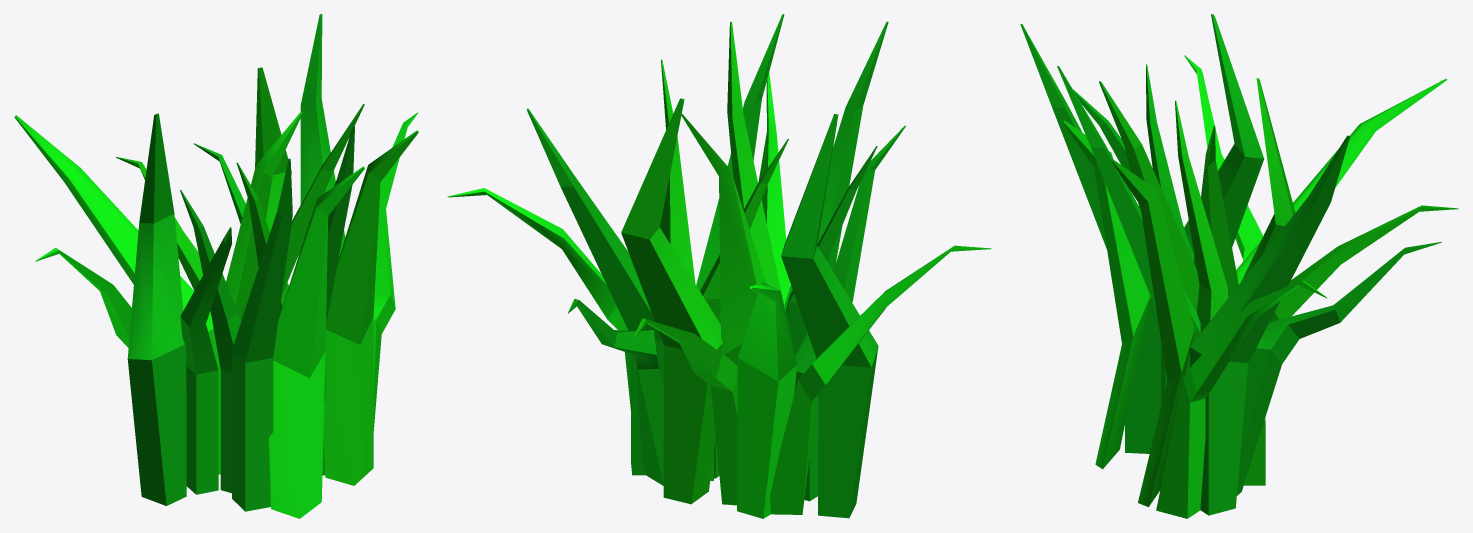
Rendered from grass3.fbx.
The picture shows the model from 3 angles, left to right: view 1: azimuth 30°, elevation 25°; view 2: azimuth 150°, elevation 25°; view 3: azimuth 270°, elevation 25°; orthographic projection. The views are drawn at different scales.
Visible parts, largest first — view 1: Cube.020, Cube.023, Cube.009, Cube.022, Cube.018, Cube.021, Cube.024, Cube.016, Cube.014, Cube.010, Cube.013, Cube.015 (+5 smaller); view 2: Cube.013, Cube.020, Cube.021, Cube.019, Cube.014, Cube.016, Cube.017, Cube.012, Cube.018, Cube.015, Cube.022, Cube.010 (+5 smaller); view 3: Cube.014, Cube.009, Cube.010, Cube.023, Cube.022, Cube.012, Cube.020, Cube.011, Cube.008, Cube.015, Cube.013, Cube.017 (+5 smaller).
Part boxes in pixels (x1,y1,x2,y2): Cube.020: (127, 113, 186, 505); Cube.023: (269, 166, 364, 518); Cube.009: (323, 130, 418, 485); Cube.022: (232, 158, 292, 511); Cube.018: (180, 227, 232, 494); Cube.021: (14, 115, 220, 474); Cube.024: (180, 190, 240, 493); Cube.016: (226, 112, 302, 316); Cube.014: (300, 14, 345, 257); Cube.010: (373, 112, 417, 430); Cube.013: (255, 67, 291, 282); Cube.015: (239, 104, 364, 321); Cube.013: (621, 98, 722, 504); Cube.020: (781, 114, 878, 518); Cube.021: (737, 282, 797, 518); Cube.019: (770, 245, 991, 514); Cube.014: (527, 108, 663, 475); Cube.016: (681, 114, 766, 365); Cube.017: (633, 318, 737, 505); Cube.012: (568, 299, 663, 485); Cube.018: (794, 125, 905, 501); Cube.015: (727, 21, 785, 311); Cube.022: (784, 21, 888, 335); Cube.010: (447, 188, 630, 409); Cube.014: (1190, 135, 1349, 515); Cube.009: (1112, 160, 1194, 506); Cube.010: (1156, 281, 1326, 518); Cube.023: (1062, 120, 1150, 469); Cube.022: (1020, 24, 1161, 453); Cube.012: (1237, 242, 1441, 495); Cube.020: (1184, 14, 1264, 254); Cube.011: (1175, 100, 1228, 332); Cube.008: (1057, 66, 1200, 388); Cube.015: (1099, 81, 1199, 403); Cube.013: (1241, 78, 1295, 485); Cube.017: (1270, 205, 1458, 321).
Bounding box in the file's own units: 2.01 × 1.61 × 1.69.
